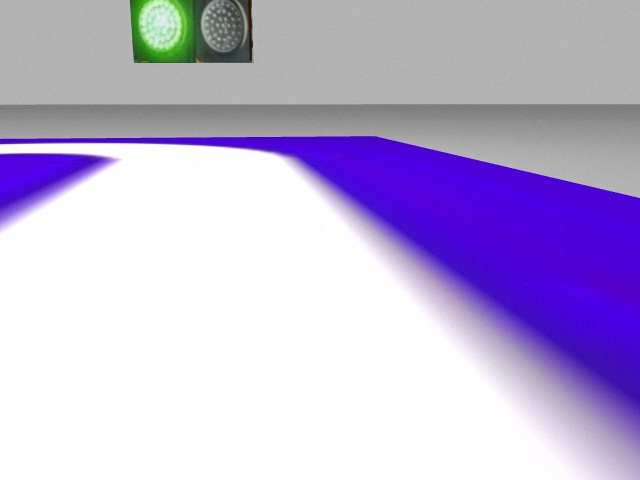green: (130, 1, 195, 66)
